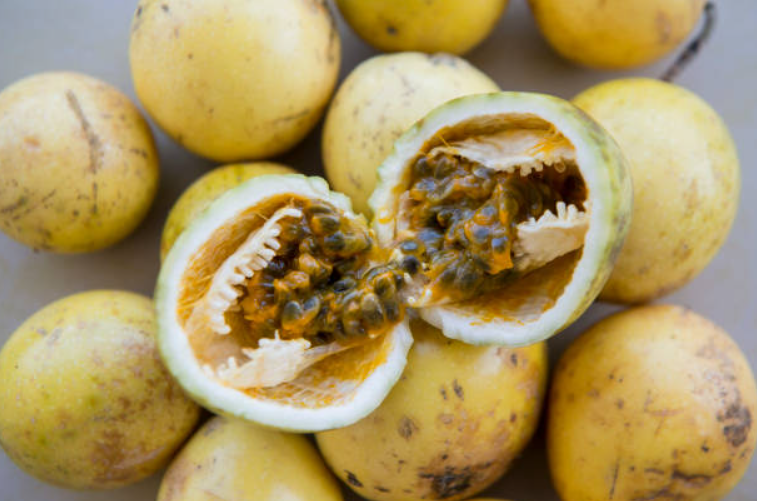maracuya: (1, 287, 207, 494), (1, 69, 166, 257)
